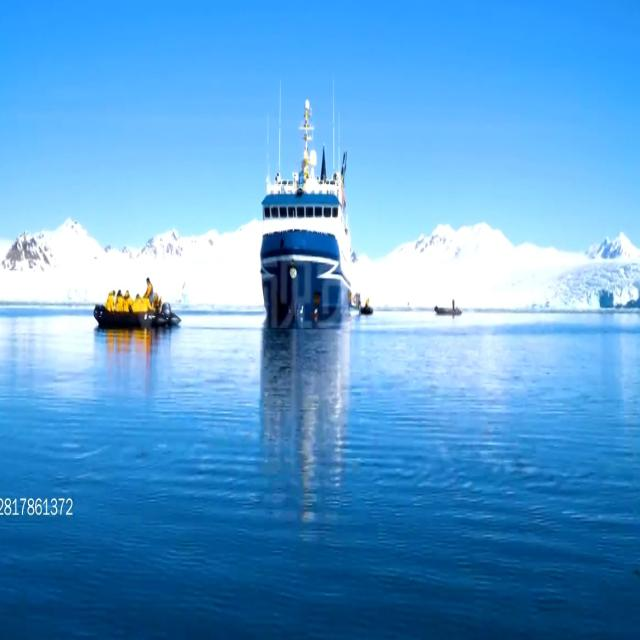houseboat: (92, 275, 176, 336), (434, 297, 460, 319), (358, 292, 374, 318)
passenger ship: (259, 86, 353, 324)
